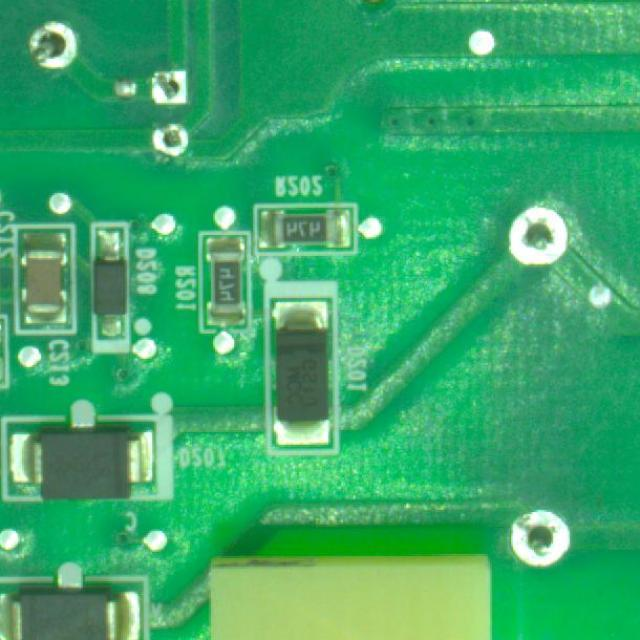Insufficient solder: (502, 193, 578, 275), (504, 495, 576, 577), (17, 23, 83, 80), (148, 114, 198, 158), (148, 63, 192, 102)
